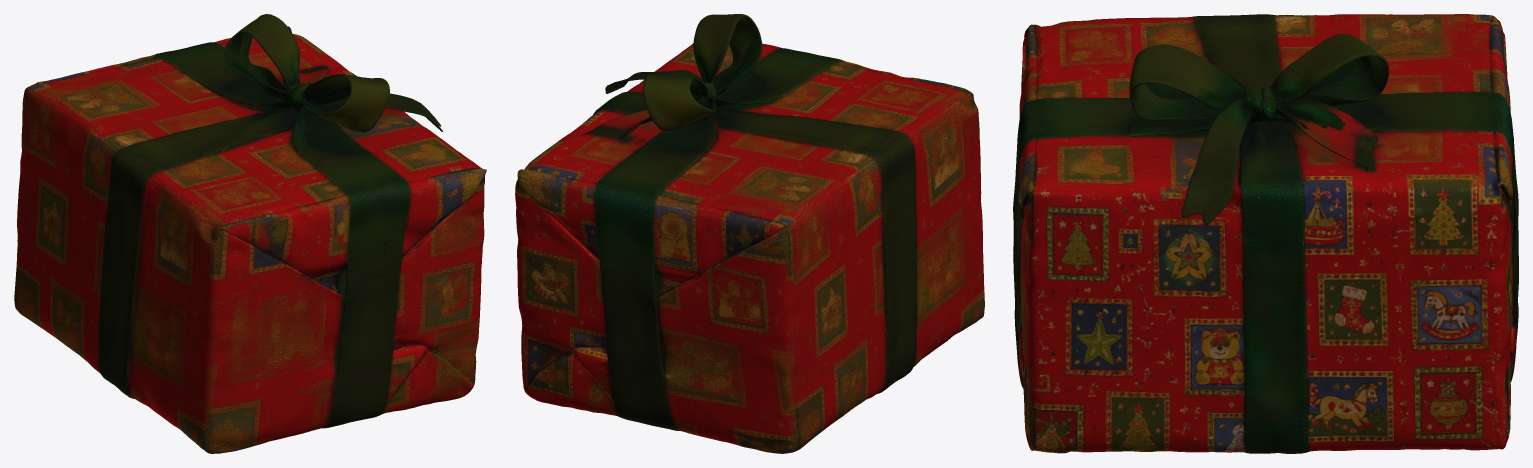
File: Regalo.fbx
The picture shows the model from 3 angles, left to right: view 1: azimuth 30°, elevation 25°; view 2: azimuth 150°, elevation 25°; view 3: azimuth 270°, elevation 25°; orthographic projection. The views are drawn at different scales.
Parts seen in each view (by area): view 1: tripo_node_55f4a98f; view 2: tripo_node_55f4a98f; view 3: tripo_node_55f4a98f.
Part boxes in pixels (x1,y1,x2,y2): tripo_node_55f4a98f: (14,14,486,453); tripo_node_55f4a98f: (515,14,984,453); tripo_node_55f4a98f: (1013,14,1518,453).
Bounding box in the file's own units: 0.8759 × 0.8059 × 0.9995.
